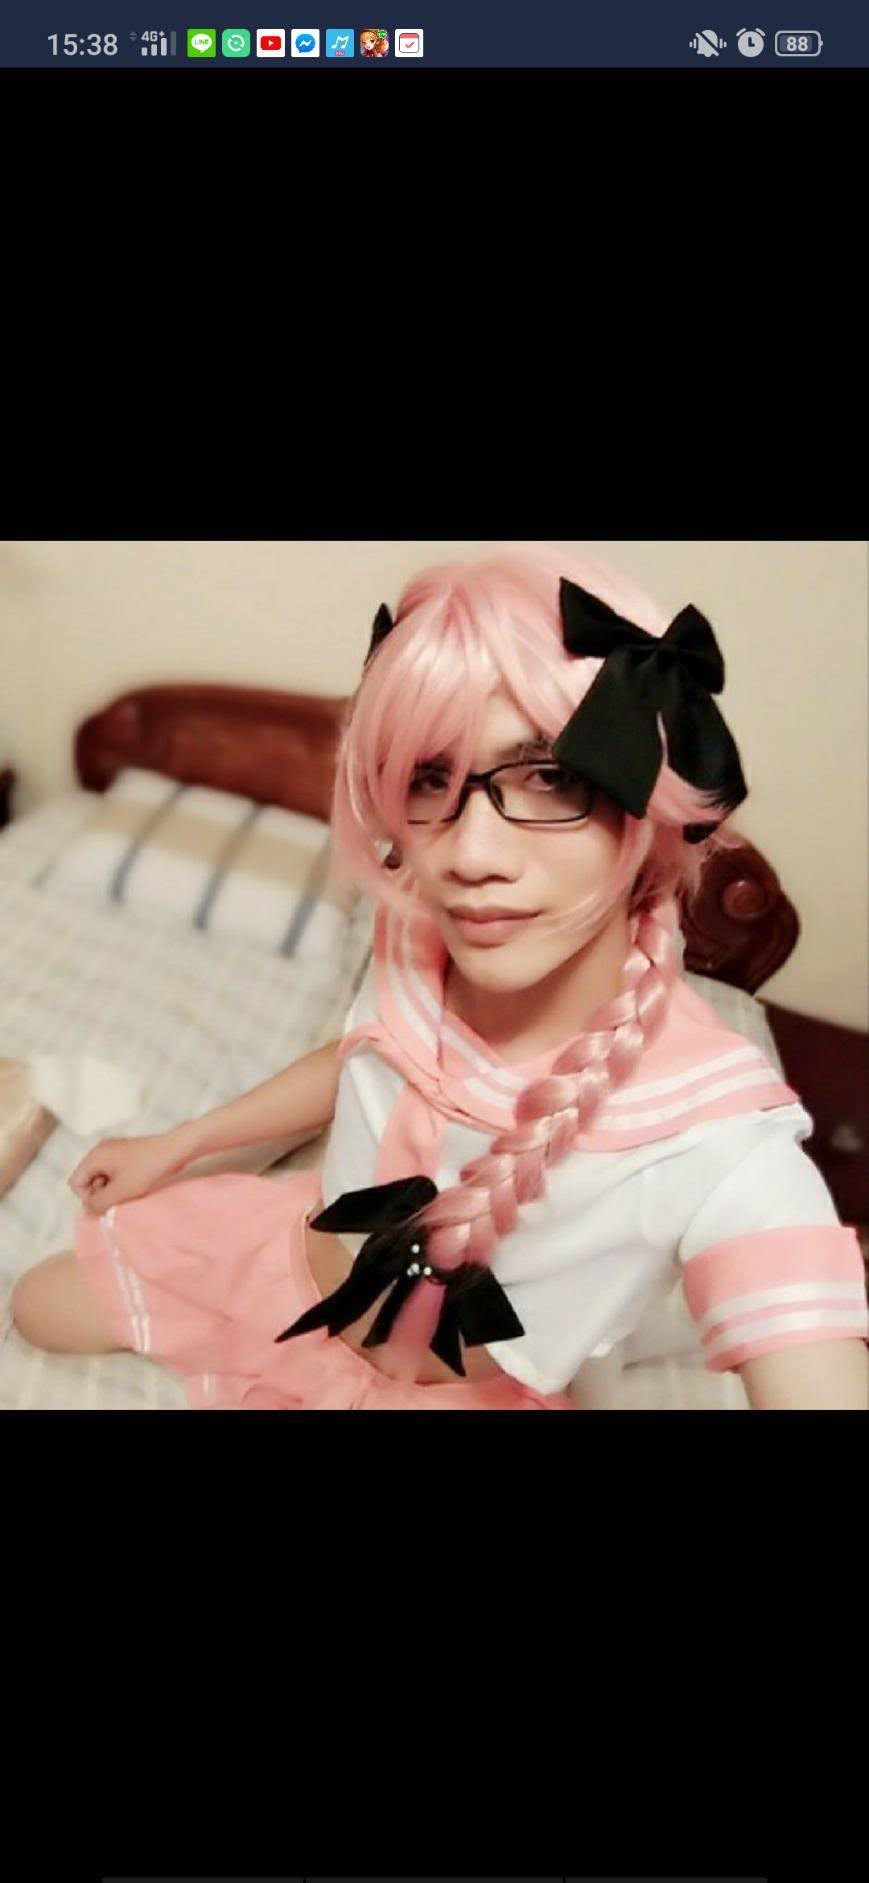people: (302, 555, 727, 1412)
